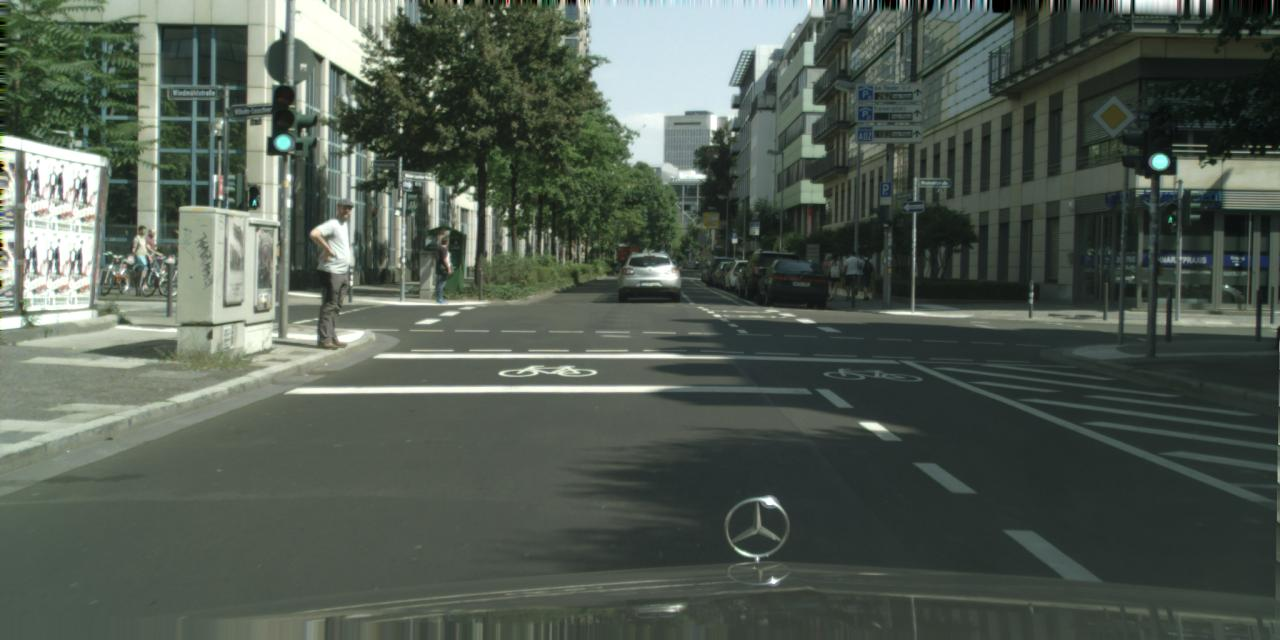ped: (305, 198, 367, 350), (428, 236, 456, 302), (127, 225, 152, 288), (138, 228, 162, 286), (855, 251, 875, 301), (841, 250, 860, 297), (824, 254, 842, 299), (819, 254, 835, 293)
